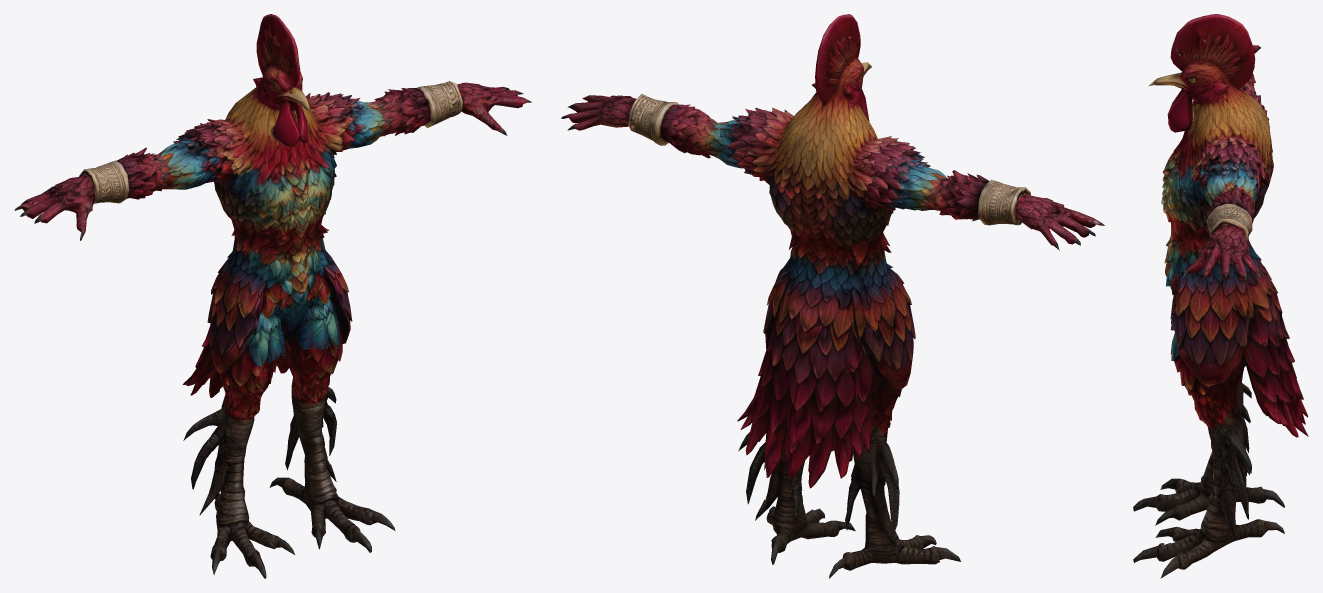
The model's file is ga-chin-cua.glb.
3 views of the same model, side by side, from view 1: azimuth 30°, elevation 25°; view 2: azimuth 150°, elevation 25°; view 3: azimuth 270°, elevation 25° (orthographic). The views are drawn at different scales.
Visible parts, largest first — view 1: tripo_node_00811456-8f02-4f8e-9492-b2019c089dd3; view 2: tripo_node_00811456-8f02-4f8e-9492-b2019c089dd3; view 3: tripo_node_00811456-8f02-4f8e-9492-b2019c089dd3.
Boxes of the visible parts, x1,y1,x2,y2 form: tripo_node_00811456-8f02-4f8e-9492-b2019c089dd3: (14, 14, 531, 578); tripo_node_00811456-8f02-4f8e-9492-b2019c089dd3: (561, 14, 1104, 578); tripo_node_00811456-8f02-4f8e-9492-b2019c089dd3: (1133, 14, 1308, 578).
Bounding box in the file's own units: 0.98 × 0.9656 × 0.2941.
1 material, 1 textured.
